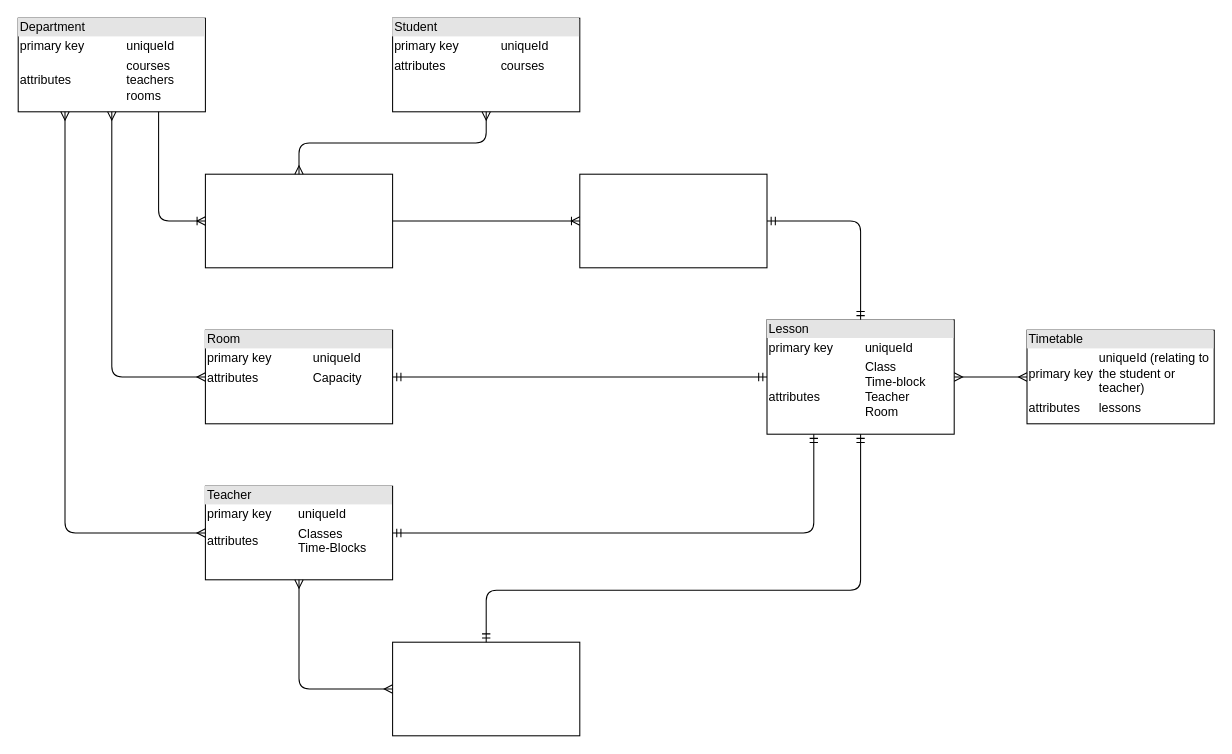
Image size: 1232x754. Some labels were removed from this diagram. The centre of each missing label's shape, as x and y in pixels:
Class primary key uniqueId attributes required-timeblocks: the point at 673,220
Course primary key uniqueId attributes classes: the point at 298,220
Time-block primary key uniqueId: the point at 486,688
